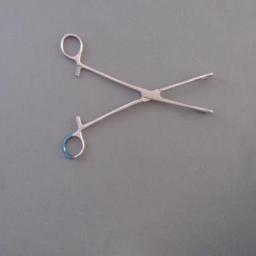Sponge Forceps: (56, 28, 220, 164)
